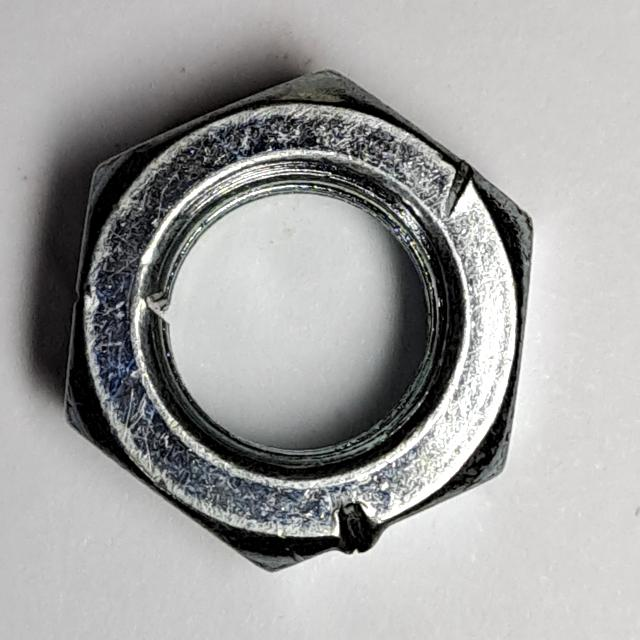Scratches: (49, 55, 547, 595)
